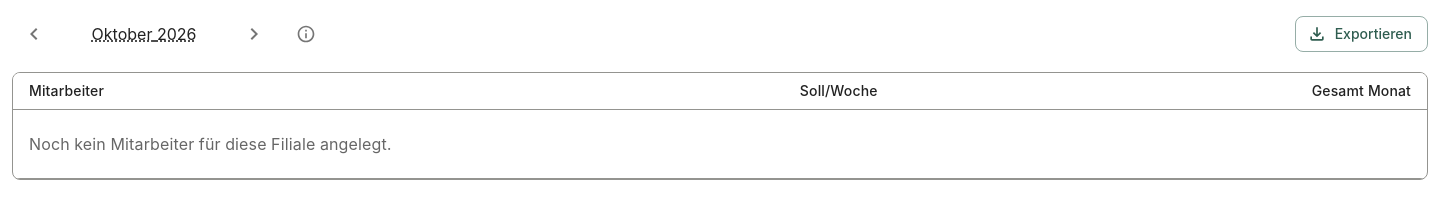
MonthOverviewView › header (Teil 5, Package 10) › shows the ArbZG note only on demand, behind an info button
The width and height of the screenshot is (1440, 197).
What coordinates should you click on to do the following:
click the button named "Hinweis zur Prüfung"
I would click on:
 (306, 34)
Its box is [284,12,328,56].
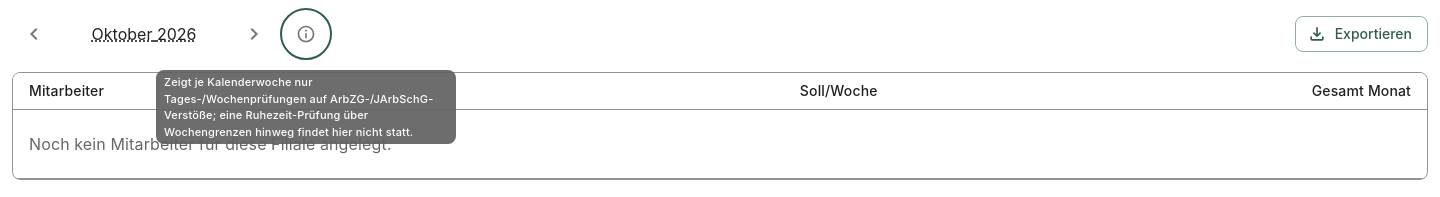
Check: the text "Ruhezeit-Prüfung über Wochengrenzen" is shown, box [164,75,433,138]
